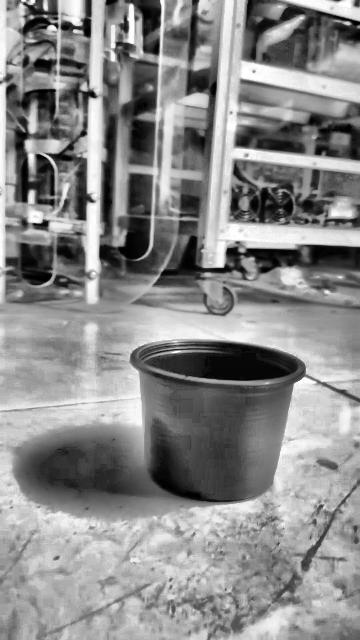pot: (131, 339, 304, 502)
